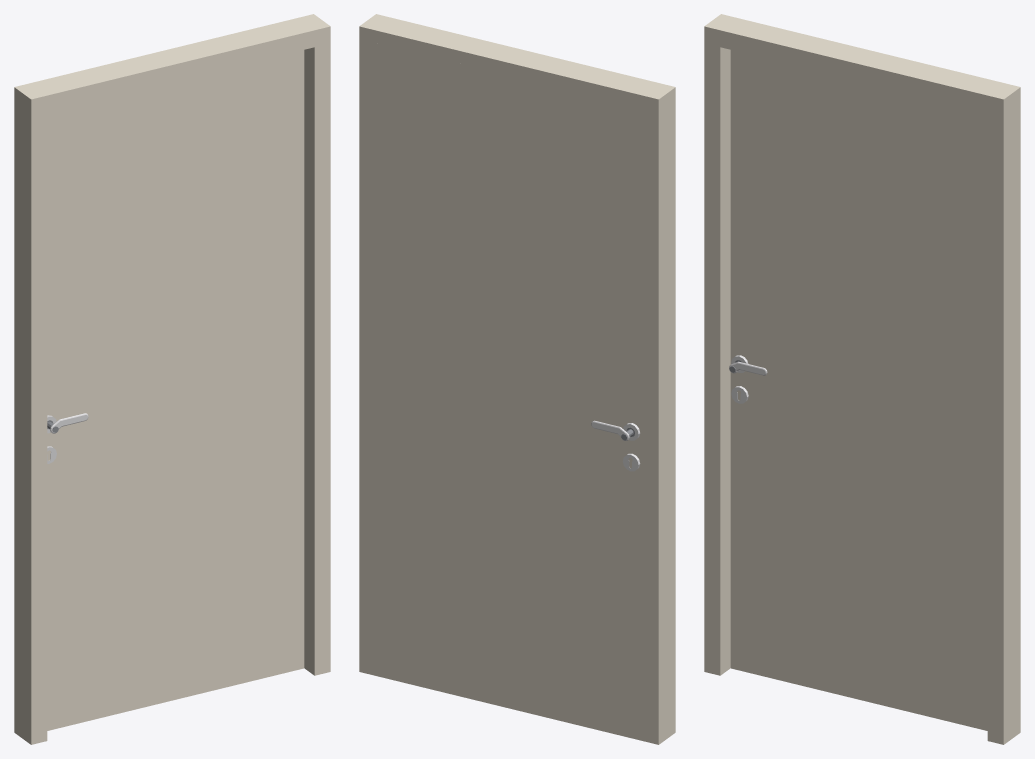
The model's file is DoorModel.fbx.
3 views of the same model, side by side, from view 1: azimuth 30°, elevation 25°; view 2: azimuth 150°, elevation 25°; view 3: azimuth 330°, elevation 25° (orthographic).
Parts seen in each view (by area): view 1: Door, DoorFrame; view 2: Door, DoorFrame; view 3: Door, DoorFrame.
Part boxes in pixels (x1,y1,x2,y2): Door: (47, 50, 304, 730); DoorFrame: (14, 14, 330, 744); Door: (371, 41, 646, 741); DoorFrame: (359, 14, 675, 744); Door: (730, 50, 987, 730); DoorFrame: (704, 14, 1020, 744).
Size of the model in its own units: 10200 by 21000 by 1490.
